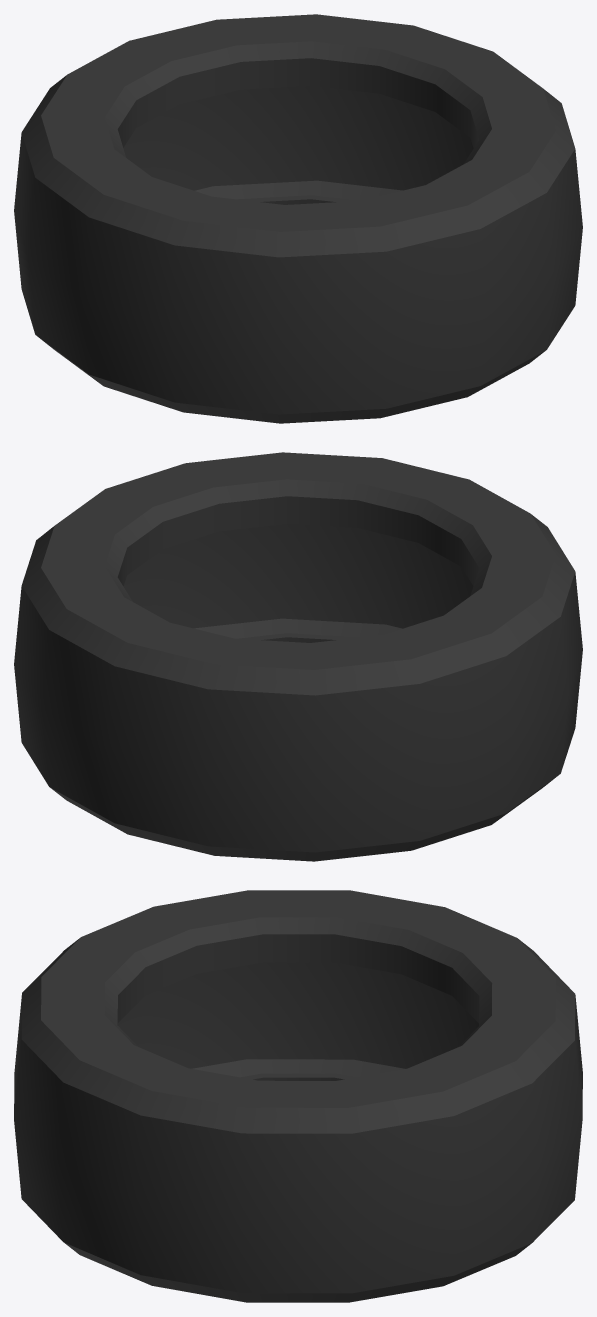
The model's file is SM_IndustrialProps_Wheel_01.fbx.
3 views of the same model, one above another, from view 1: azimuth 30°, elevation 25°; view 2: azimuth 150°, elevation 25°; view 3: azimuth 270°, elevation 25° (orthographic).
Parts seen in each view (by area): view 1: SM_IndustrialProps_Wheel_01; view 2: SM_IndustrialProps_Wheel_01; view 3: SM_IndustrialProps_Wheel_01.
Part boxes in pixels (x1,y1,x2,y2): SM_IndustrialProps_Wheel_01: [14, 14, 582, 423]; SM_IndustrialProps_Wheel_01: [14, 452, 582, 861]; SM_IndustrialProps_Wheel_01: [14, 890, 582, 1302].
Bounding box in the file's own units: 0.8383 × 0.3167 × 0.8383.
